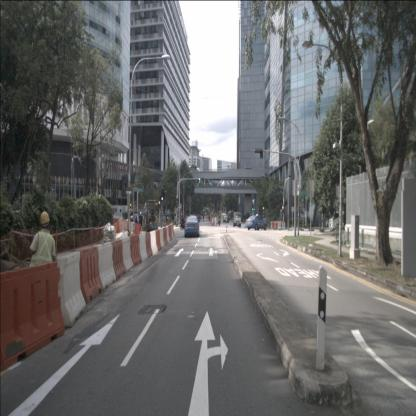barrier: (0, 261, 65, 371), (58, 251, 86, 328), (76, 246, 104, 304), (94, 242, 117, 290), (111, 240, 126, 280), (121, 236, 134, 272), (130, 235, 142, 267), (139, 234, 148, 262), (145, 232, 153, 258), (150, 231, 158, 256), (159, 228, 165, 249), (156, 229, 161, 251), (163, 227, 168, 246), (134, 224, 141, 235), (168, 225, 173, 240), (166, 226, 170, 243), (171, 223, 174, 239)
